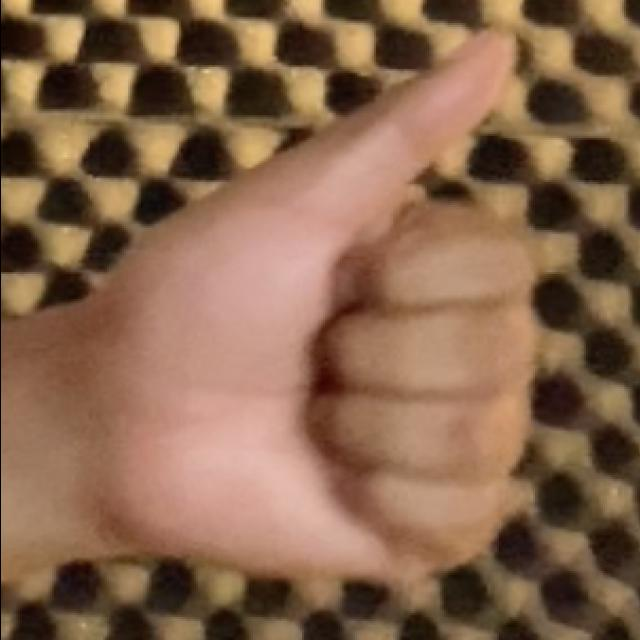A: (58, 13, 598, 596)
